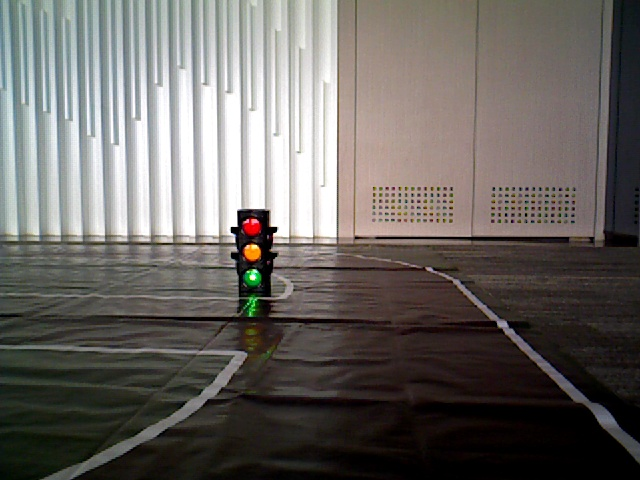green: (241, 214, 268, 289)
